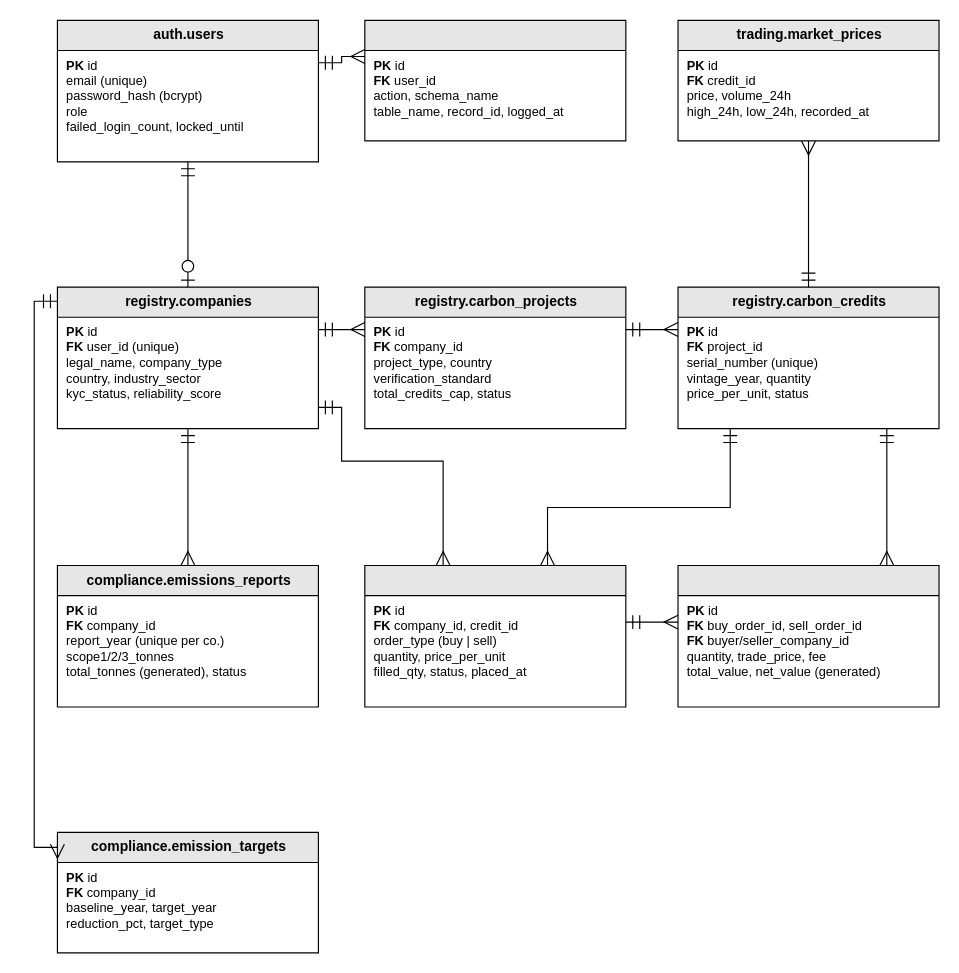
Some shapes in this 959 by 973 pixel diagram are drawn without their labels. Here are the shapes that lost their labels. From the top down, the box of each, then its label:
(364, 19, 626, 141): auth.audit_log
(364, 564, 626, 707): trading.orders
(677, 564, 939, 707): trading.trades
